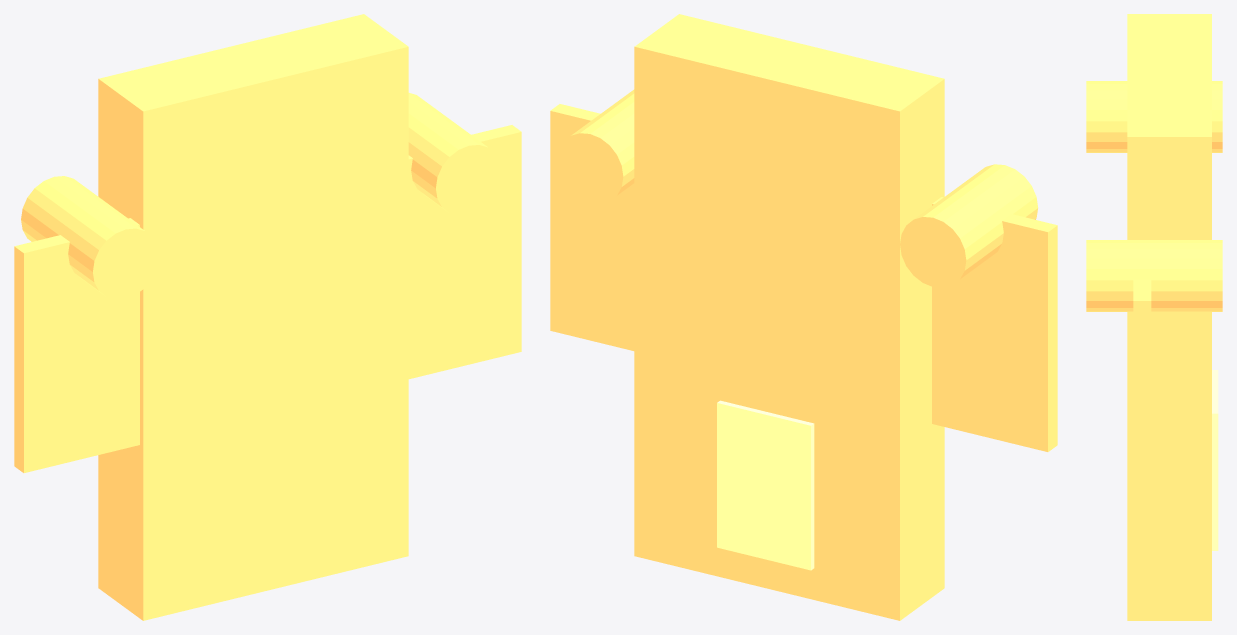
File: enemy_mid.glb
3 renders of one model, left to right at view 1: azimuth 30°, elevation 25°; view 2: azimuth 150°, elevation 25°; view 3: azimuth 270°, elevation 25°, orthographic. The views are drawn at different scales.
Parts seen in each view (by area): view 1: body, wing, engine_-1, engine_1; view 2: body, wing, visor, engine_-1, engine_1; view 3: body, engine_1, wing, engine_-1, visor.
Boxes of the visible parts, x1,y1,x2,y2 form: body: (98,14,408,620); wing: (14,125,521,472); engine_-1: (21,176,159,299); engine_1: (408,93,502,215); body: (634,14,944,620); wing: (550,104,1057,451); visor: (717,400,814,570); engine_-1: (900,164,1038,287); engine_1: (557,89,634,204); body: (1127,14,1211,620); engine_1: (1086,240,1222,311); wing: (1133,279,1151,509); engine_-1: (1086,81,1222,152); visor: (1212,370,1218,550).
Size of the model in its own units: 1.8 by 1.76 by 0.45.
